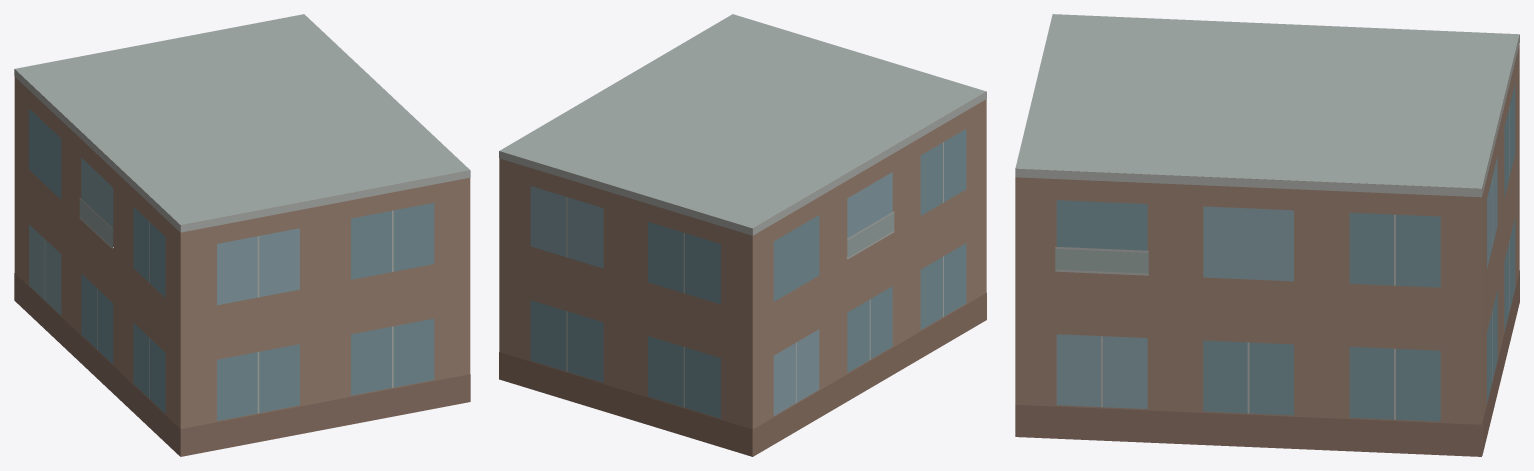
The model's file is survey-upis-32640217.glb.
The picture shows the model from 3 angles, left to right: view 1: azimuth 30°, elevation 25°; view 2: azimuth 150°, elevation 25°; view 3: azimuth 270°, elevation 25°; orthographic projection. The views are drawn at different scales.
Visible parts, largest first — view 1: survey-upis-32640217.tmp; view 2: survey-upis-32640217.tmp; view 3: survey-upis-32640217.tmp.
Boxes of the visible parts, left/top/right/bottom form: survey-upis-32640217.tmp: left=14, top=14, right=470, bottom=456; survey-upis-32640217.tmp: left=499, top=14, right=986, bottom=456; survey-upis-32640217.tmp: left=1015, top=14, right=1519, bottom=456.
Size of the model in its own units: 10.62 by 7.6 by 12.96.
